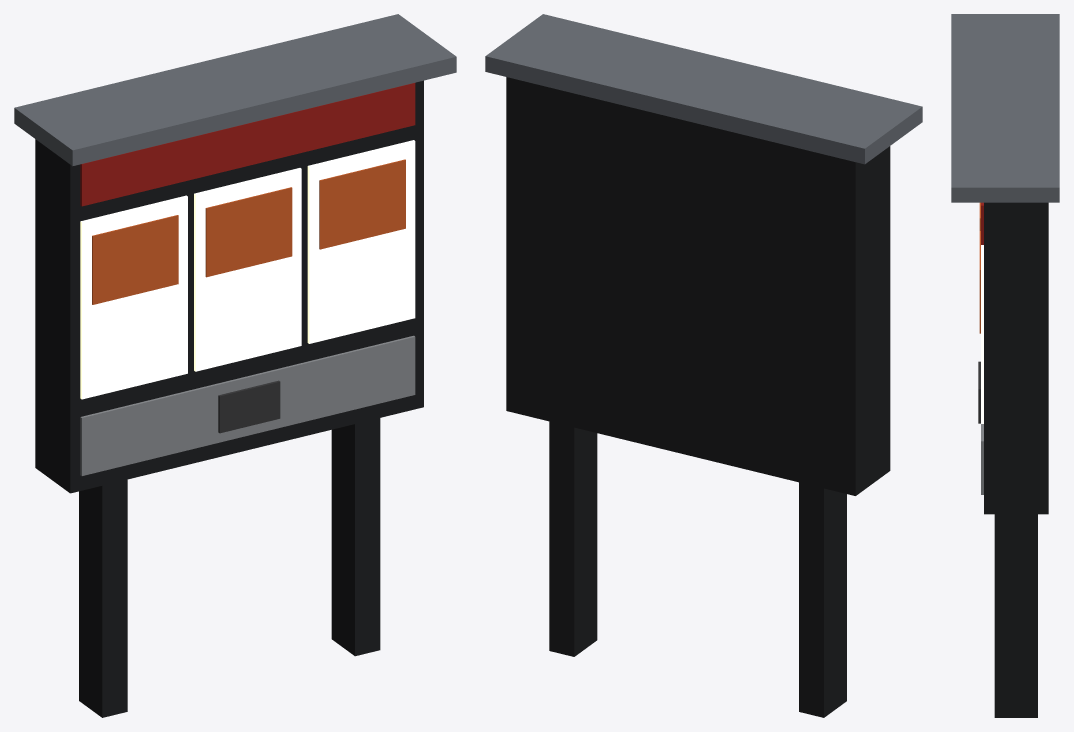
File: menu_board.glb
3 views of the same model, side by side, from view 1: azimuth 30°, elevation 25°; view 2: azimuth 150°, elevation 25°; view 3: azimuth 270°, elevation 25° (orthographic). The views are drawn at different scales.
Parts seen in each view (by area): view 1: menu_board; view 2: menu_board; view 3: menu_board.
Boxes of the visible parts, x1,y1,x2,y2 form: menu_board: (14,14,456,717); menu_board: (485,14,922,717); menu_board: (951,14,1059,717).
Bounding box in the file's own units: 1.52 × 2.26 × 0.4.
1 material, 1 textured.
